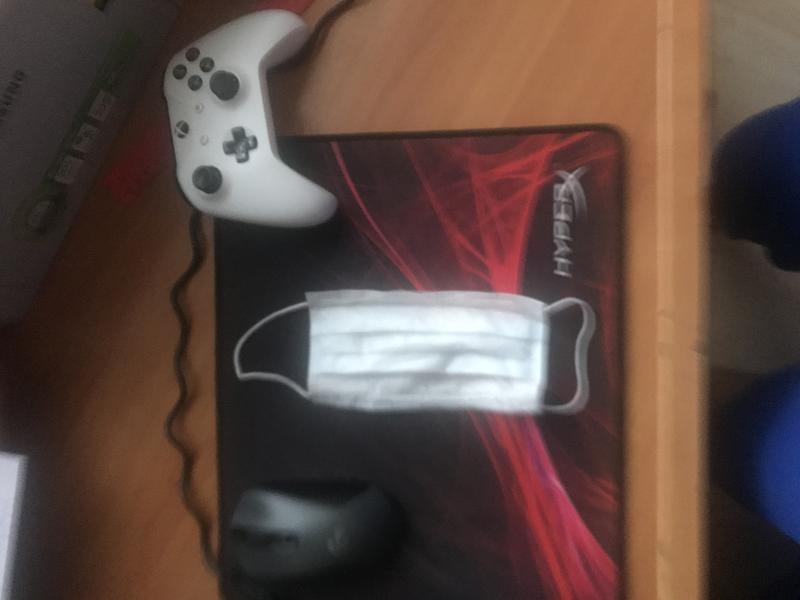medical_mask: (228, 291, 593, 414)
